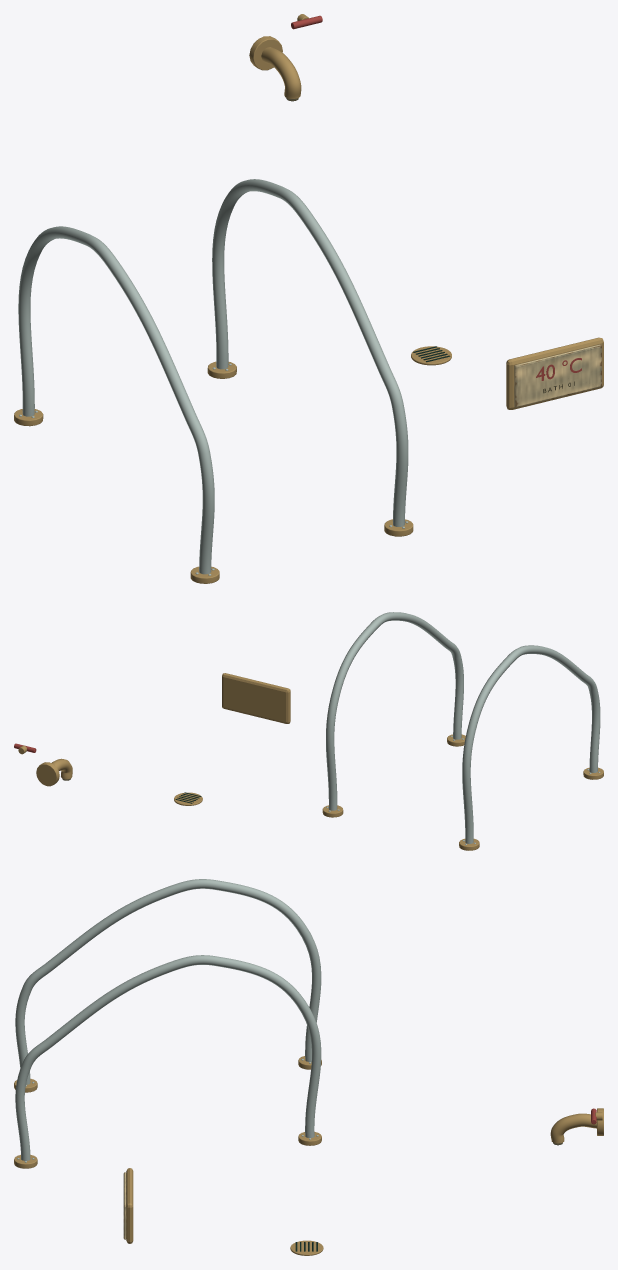
File: SM_Bath_01_Painterly_Hardware.fbx
The picture shows the model from 3 angles, top to bottom: view 1: azimuth 30°, elevation 25°; view 2: azimuth 150°, elevation 25°; view 3: azimuth 270°, elevation 25°; orthographic projection. The views are drawn at different scales.
Parts seen in each view (by area): view 1: SM_Bath_01_Painterly_Hardware, SM_Bath_01_Painterly_Details; view 2: SM_Bath_01_Painterly_Hardware, SM_Bath_01_Painterly_Details; view 3: SM_Bath_01_Painterly_Hardware, SM_Bath_01_Painterly_Details.
Part boxes in pixels (x1,y1,x2,y2): SM_Bath_01_Painterly_Hardware: (14, 14, 413, 583); SM_Bath_01_Painterly_Details: (411, 337, 603, 409); SM_Bath_01_Painterly_Hardware: (14, 612, 603, 850); SM_Bath_01_Painterly_Details: (174, 673, 290, 805); SM_Bath_01_Painterly_Hardware: (14, 879, 603, 1168); SM_Bath_01_Painterly_Details: (123, 1168, 323, 1255).
Size of the model in its own units: 2.83 by 3.74 by 1.48.
5 materials, 2 textured.
